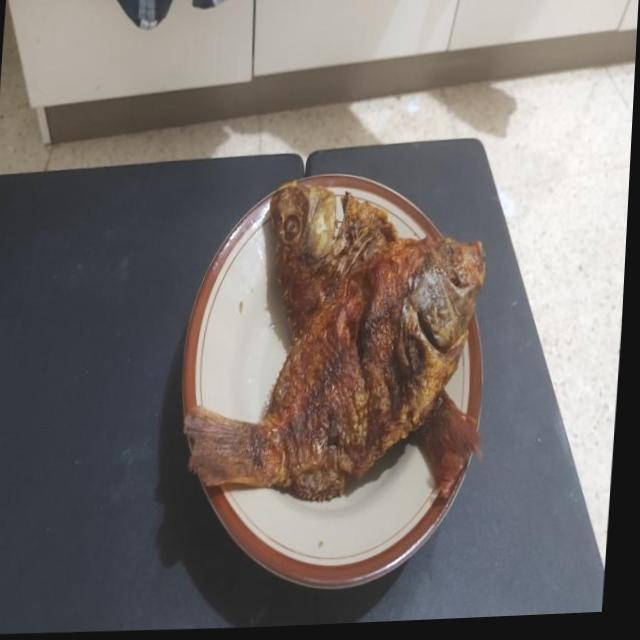ikan_mujair: (184, 236, 485, 499), (269, 185, 482, 488)
